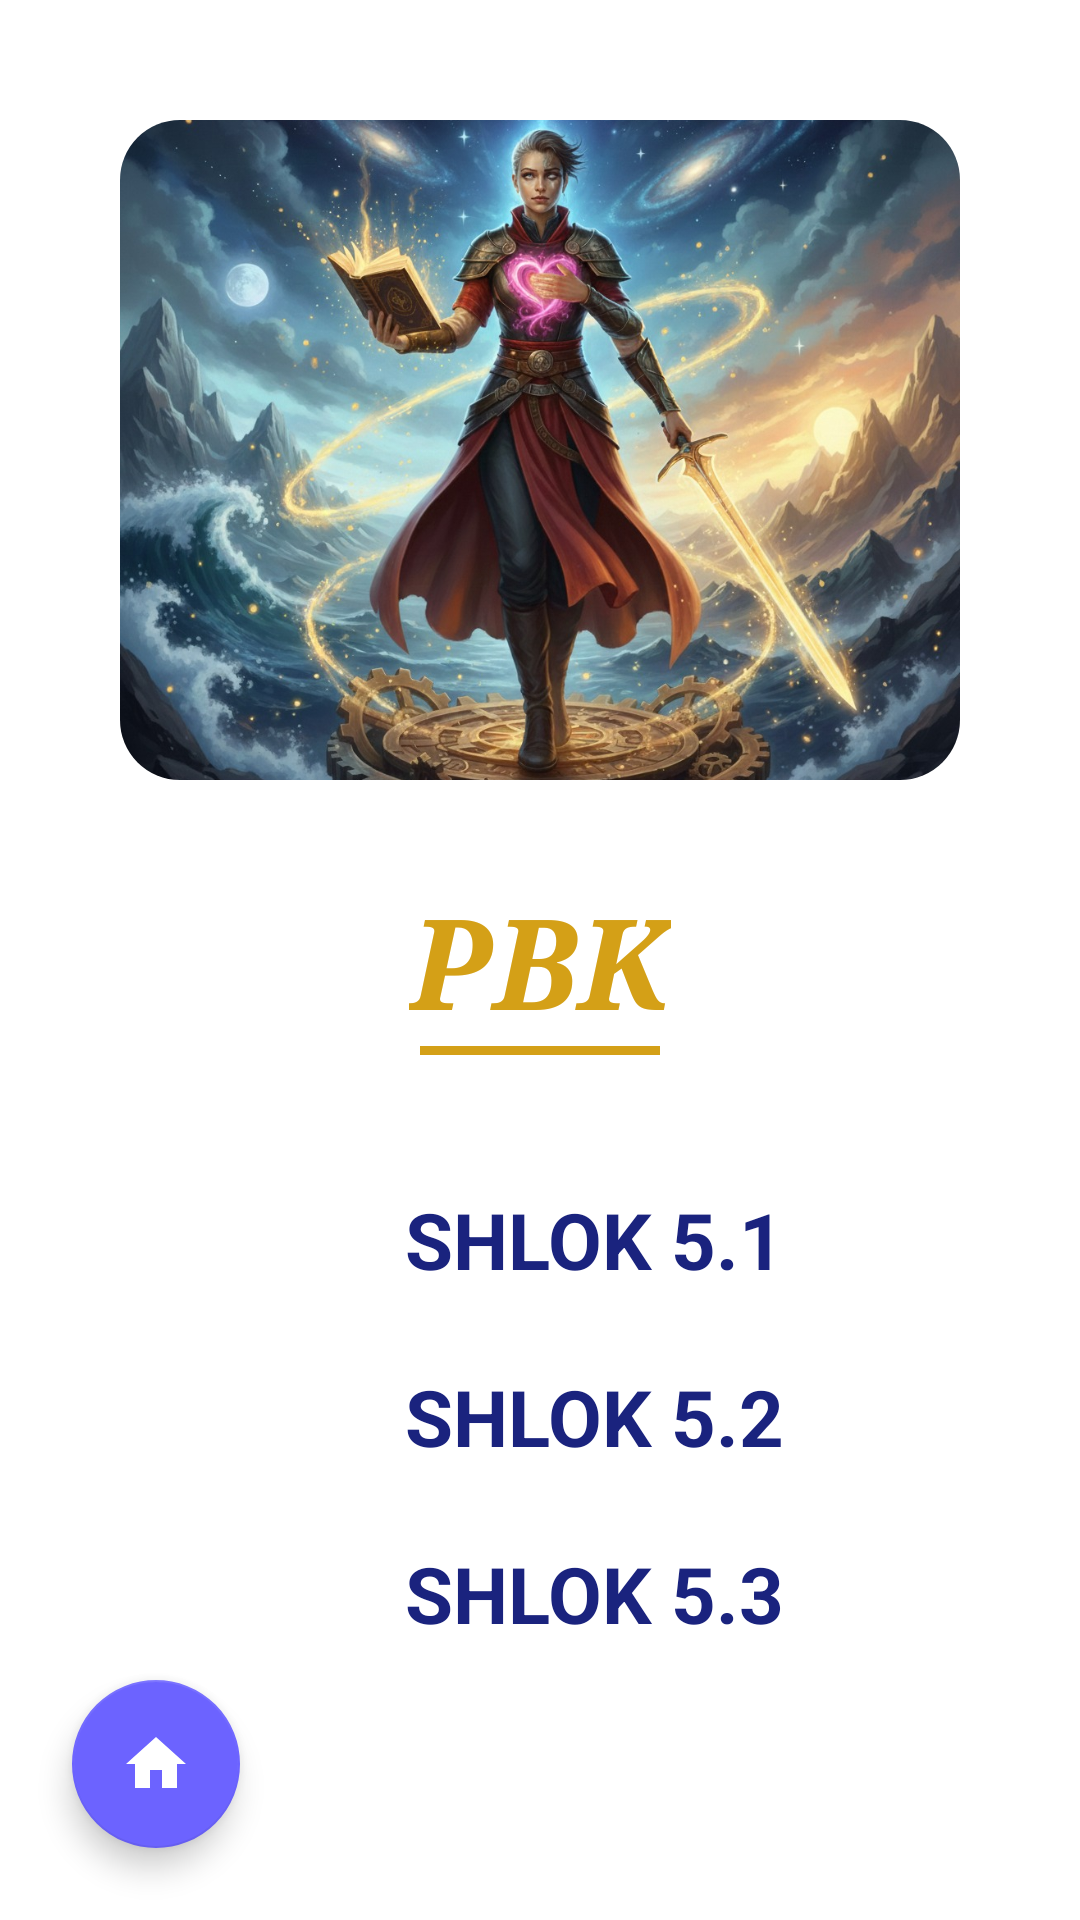

Where to tap for icons on this 1080 x 1920 app screen, as point (x, y):
Home: point (156, 1764)
